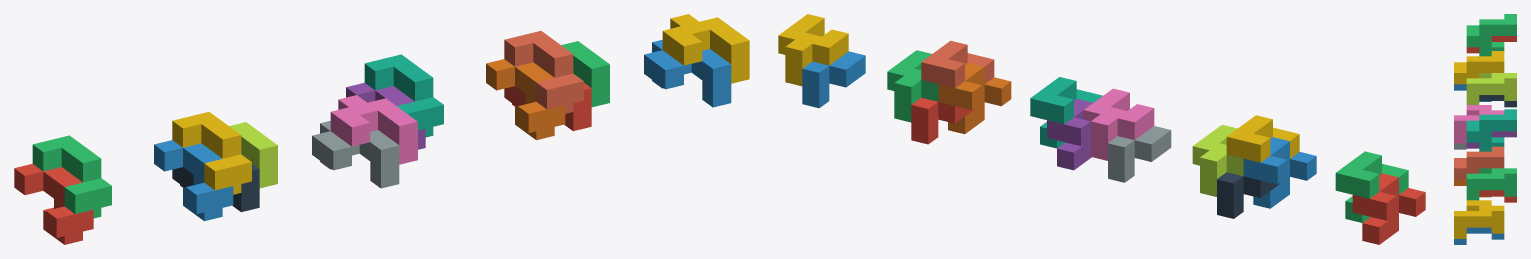
The model's file is tiling.obj.
3 views of the same model, side by side, from view 1: azimuth 30°, elevation 25°; view 2: azimuth 150°, elevation 25°; view 3: azimuth 270°, elevation 25° (orthographic). The views are drawn at different scales.
Parts seen in each view (by area): view 1: copy_2_domain_8, copy_2_domain_4, copy_1_domain_3, copy_1_domain_8, copy_1_domain_4, copy_1_domain_7, copy_1_domain_1, copy_1_domain_2, copy_1_domain_6, copy_2_domain_2, copy_2_domain_6, copy_2_domain_3 (+4 smaller); view 2: copy_2_domain_8, copy_2_domain_4, copy_1_domain_1, copy_1_domain_6, copy_1_domain_2, copy_1_domain_3, copy_2_domain_6, copy_1_domain_7, copy_2_domain_2, copy_2_domain_7, copy_2_domain_3, copy_1_domain_4 (+4 smaller); view 3: copy_2_domain_8, copy_1_domain_7, copy_1_domain_3, copy_2_domain_7, copy_2_domain_3, copy_1_domain_8, copy_1_domain_4, copy_2_domain_4, copy_2_domain_6, copy_1_domain_5, copy_2_domain_5, copy_1_domain_1 (+4 smaller).
Part boxes in pixels (box(x1,y1,x2,y2)): copy_2_domain_8: box(662, 14, 749, 83); copy_2_domain_4: box(330, 95, 417, 164); copy_1_domain_3: box(32, 135, 111, 218); copy_1_domain_8: box(504, 31, 583, 113); copy_1_domain_4: box(172, 112, 251, 194); copy_1_domain_7: box(364, 54, 443, 137); copy_1_domain_1: box(14, 163, 93, 244); copy_1_domain_2: box(154, 140, 233, 221); copy_1_domain_6: box(486, 59, 565, 140); copy_2_domain_2: box(312, 120, 399, 188); copy_2_domain_6: box(644, 39, 731, 107); copy_2_domain_3: box(229, 122, 277, 188); copy_2_domain_8: box(778, 14, 848, 86); copy_2_domain_4: box(1083, 88, 1154, 160); copy_1_domain_1: box(1352, 173, 1425, 244); copy_1_domain_6: box(938, 62, 1011, 134); copy_1_domain_2: box(1243, 137, 1316, 208); copy_1_domain_3: box(1335, 151, 1408, 222); copy_2_domain_6: box(802, 51, 865, 108); copy_1_domain_7: box(1030, 77, 1102, 148); copy_2_domain_2: box(1108, 126, 1171, 182); copy_2_domain_7: box(887, 50, 938, 122); copy_2_domain_3: box(1192, 124, 1243, 196); copy_1_domain_4: box(1226, 115, 1299, 162); copy_2_domain_8: box(1454, 200, 1504, 238); copy_1_domain_7: box(1466, 109, 1516, 151); copy_1_domain_3: box(1466, 14, 1516, 56); copy_2_domain_7: box(1466, 168, 1516, 200); copy_2_domain_3: box(1466, 73, 1516, 104); copy_1_domain_8: box(1454, 146, 1504, 179); copy_1_domain_4: box(1454, 51, 1504, 84); copy_2_domain_4: box(1454, 105, 1504, 143); copy_2_domain_6: box(1454, 227, 1504, 244); copy_1_domain_5: box(1466, 131, 1516, 148); copy_2_domain_5: box(1479, 190, 1516, 202); copy_1_domain_1: box(1466, 36, 1516, 53).
Size of the model in its own units: 37 by 4 by 5.
